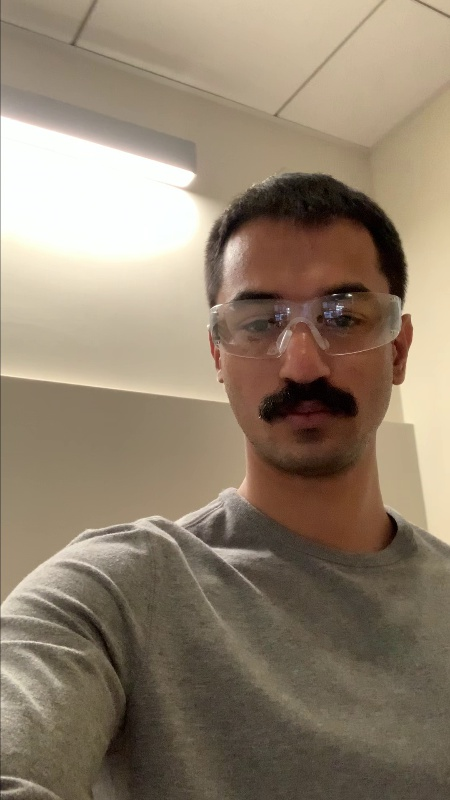glasses: (204, 294, 404, 346)
